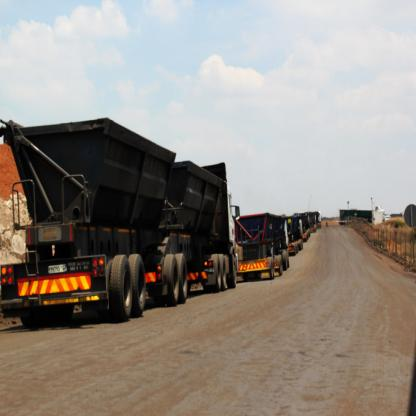dump_truck: (10, 103, 236, 322), (235, 199, 295, 285), (286, 211, 318, 256)
